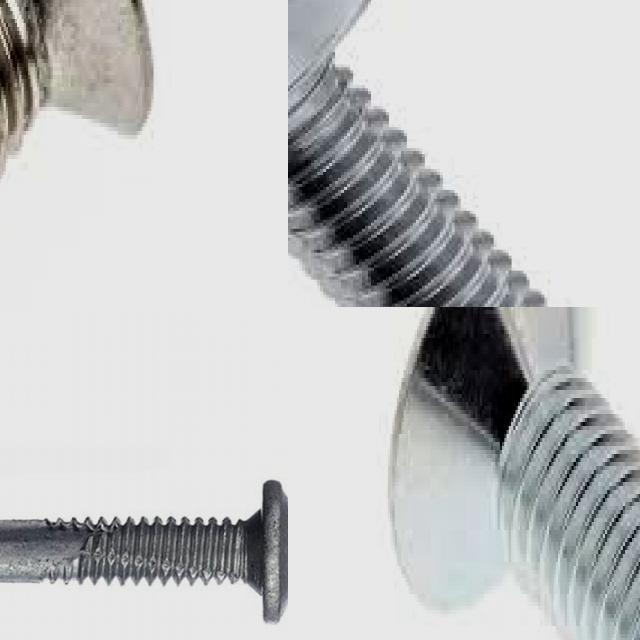Screw: (386, 307, 640, 640), (288, 0, 552, 307), (0, 481, 288, 623), (0, 0, 151, 184)
